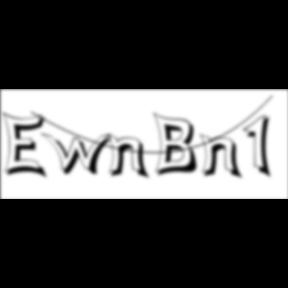1: (243, 114, 278, 182)
B: (153, 111, 203, 179)
E: (2, 110, 52, 182)
n: (106, 132, 154, 181), (200, 132, 246, 181)
w: (41, 132, 119, 178)
